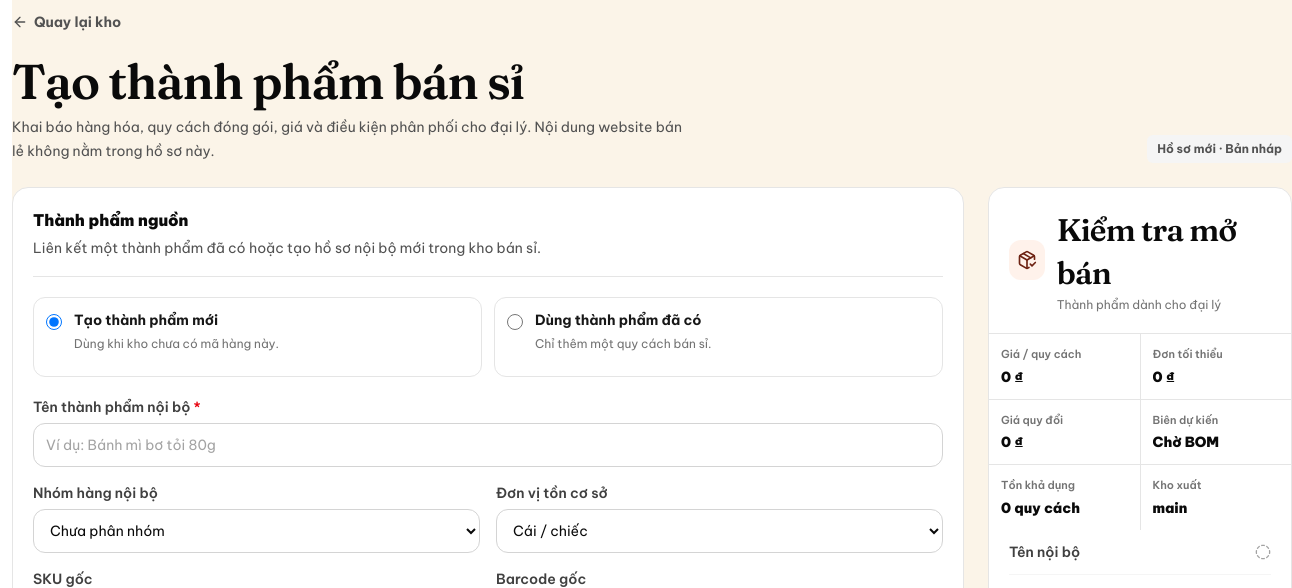
WholesaleFinishedProductEditor › can link an existing finished product
Expected: the heading "Tạo thành phẩm bán sỉ" is shown, 12,51 -> 524,111
Step 1. Click the radio button labelled "Dùng thành phẩm đã có Chỉ thêm một quy cách bán sỉ." → (515,322), box 507,314 -> 523,330
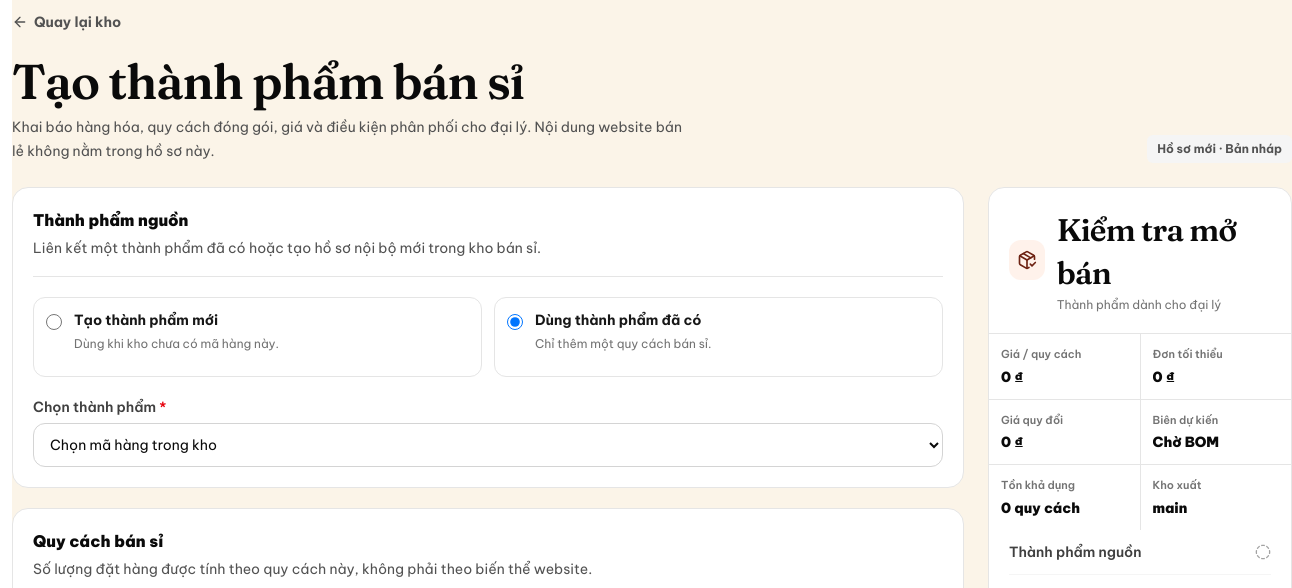
Step 2. Select "Croissant bơ · TP-CROIS-01" in the dropdown labelled "Chọn thành phẩm *" → (488,445), box 33,423 -> 943,467
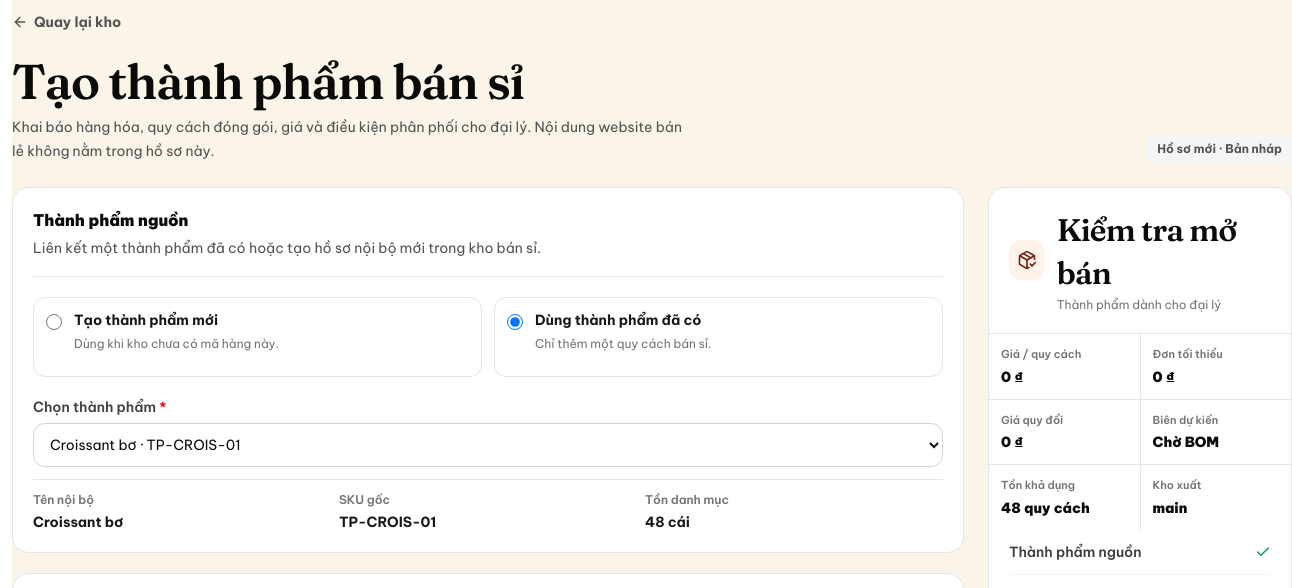
Expected: the text "TP-CROIS-01" is shown, 339,513 -> 436,531
Expected: the text "48 cái" is shown, 645,513 -> 690,531
